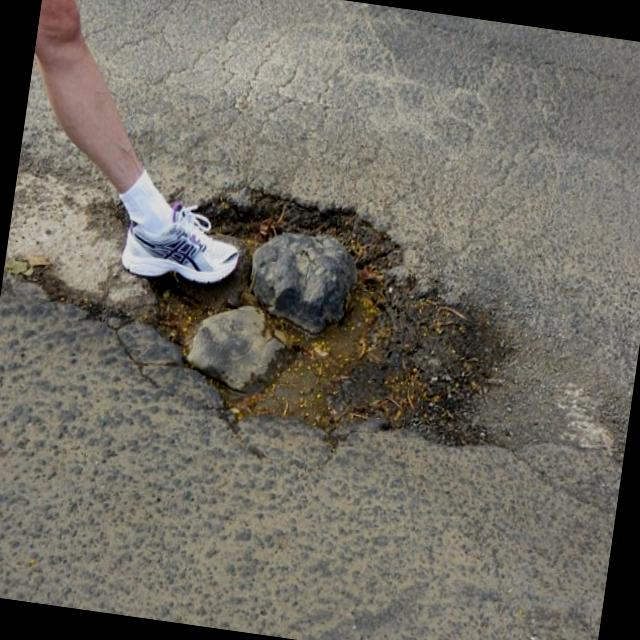bad-road: (128, 174, 524, 473)
